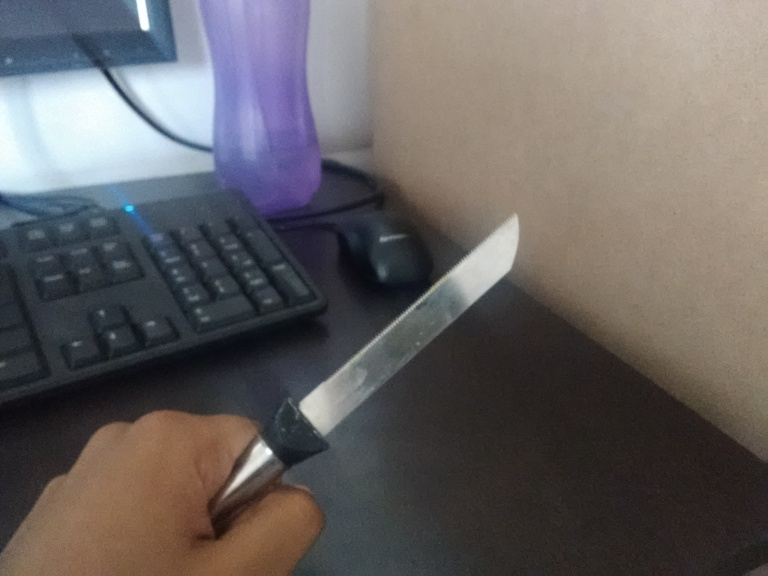knife: (201, 212, 521, 523)
